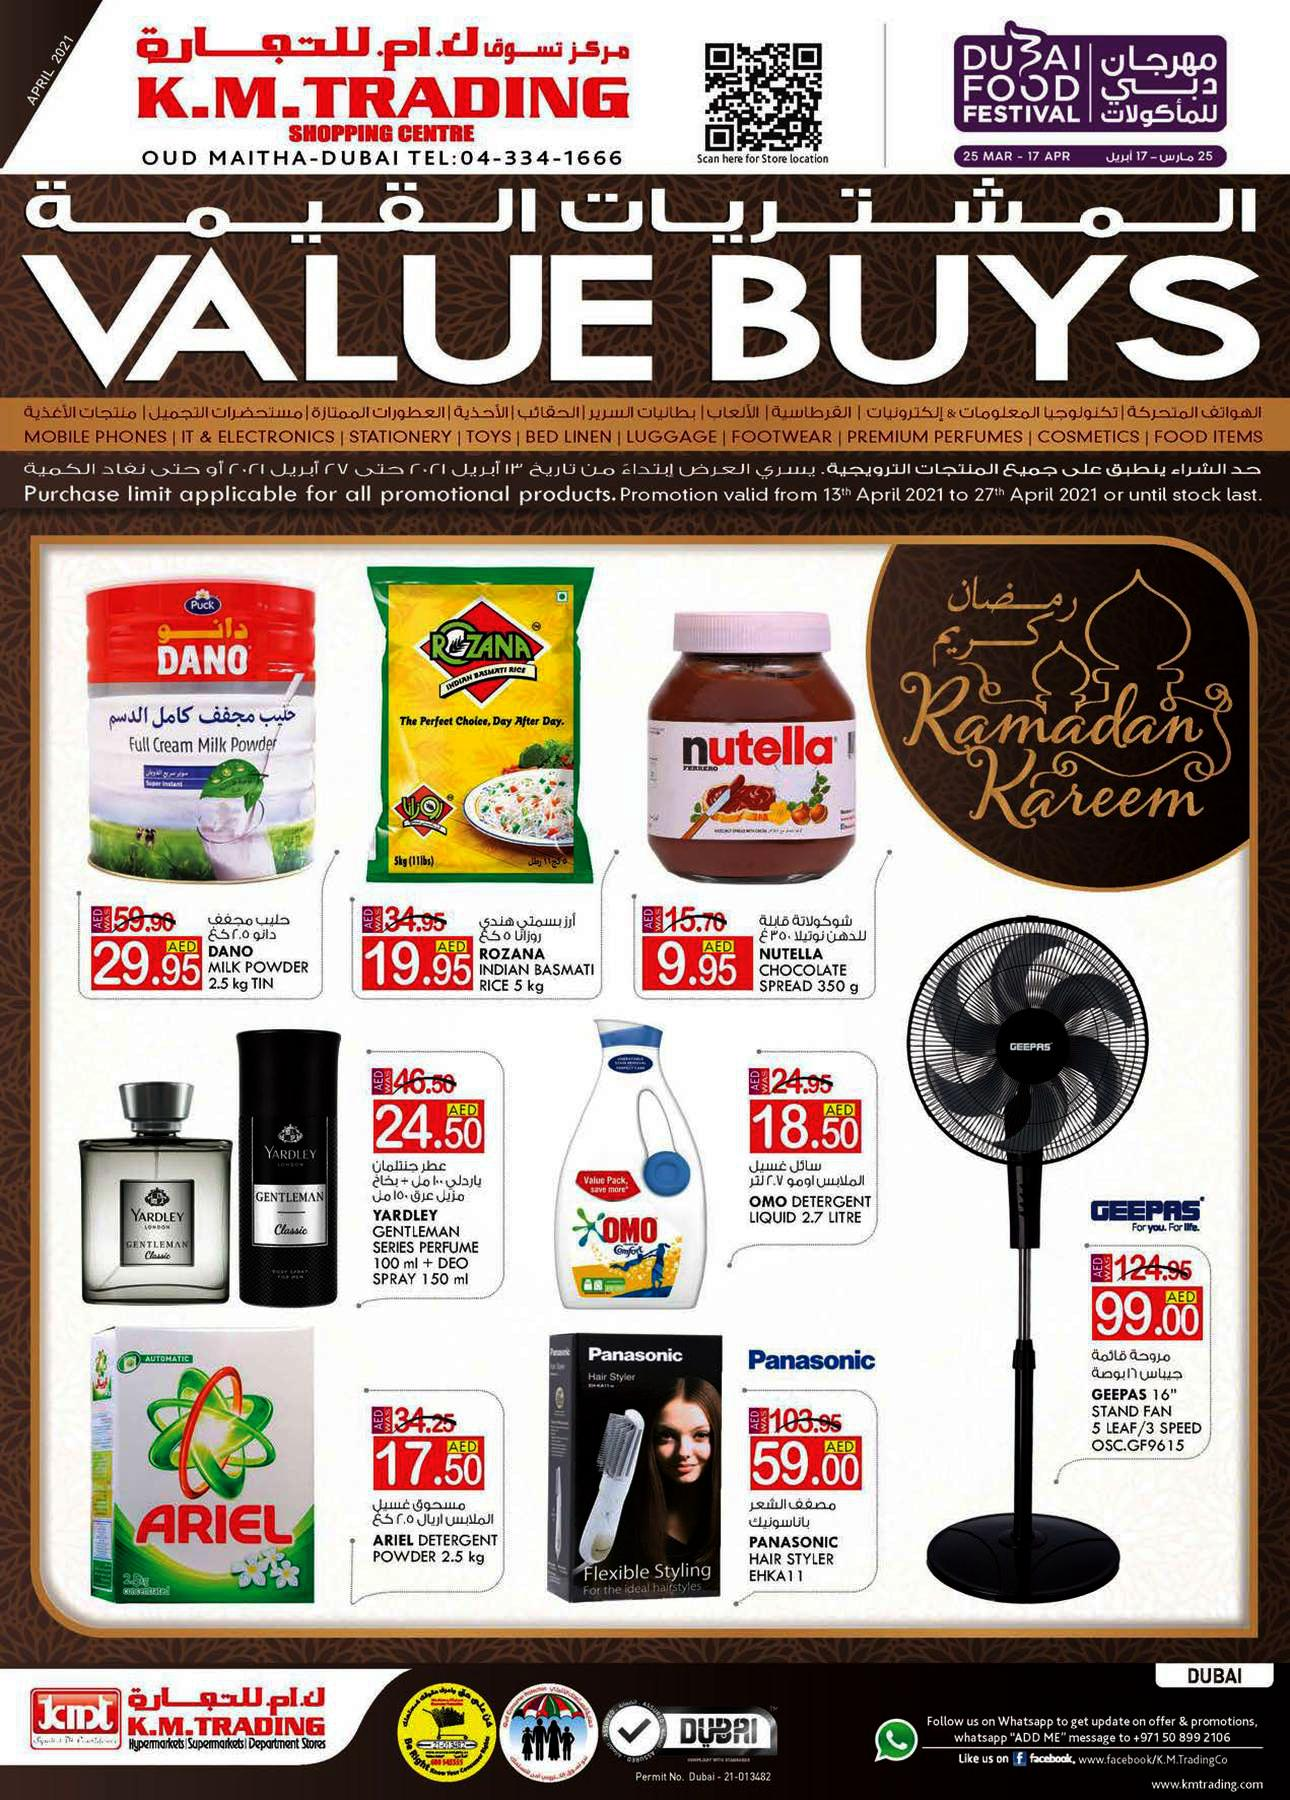text: (367, 1153, 489, 1292), (1088, 1342, 1208, 1455), (362, 1493, 505, 1574), (473, 908, 598, 999), (752, 906, 873, 999), (746, 1153, 877, 1231), (743, 1492, 849, 1588), (202, 910, 313, 995)
